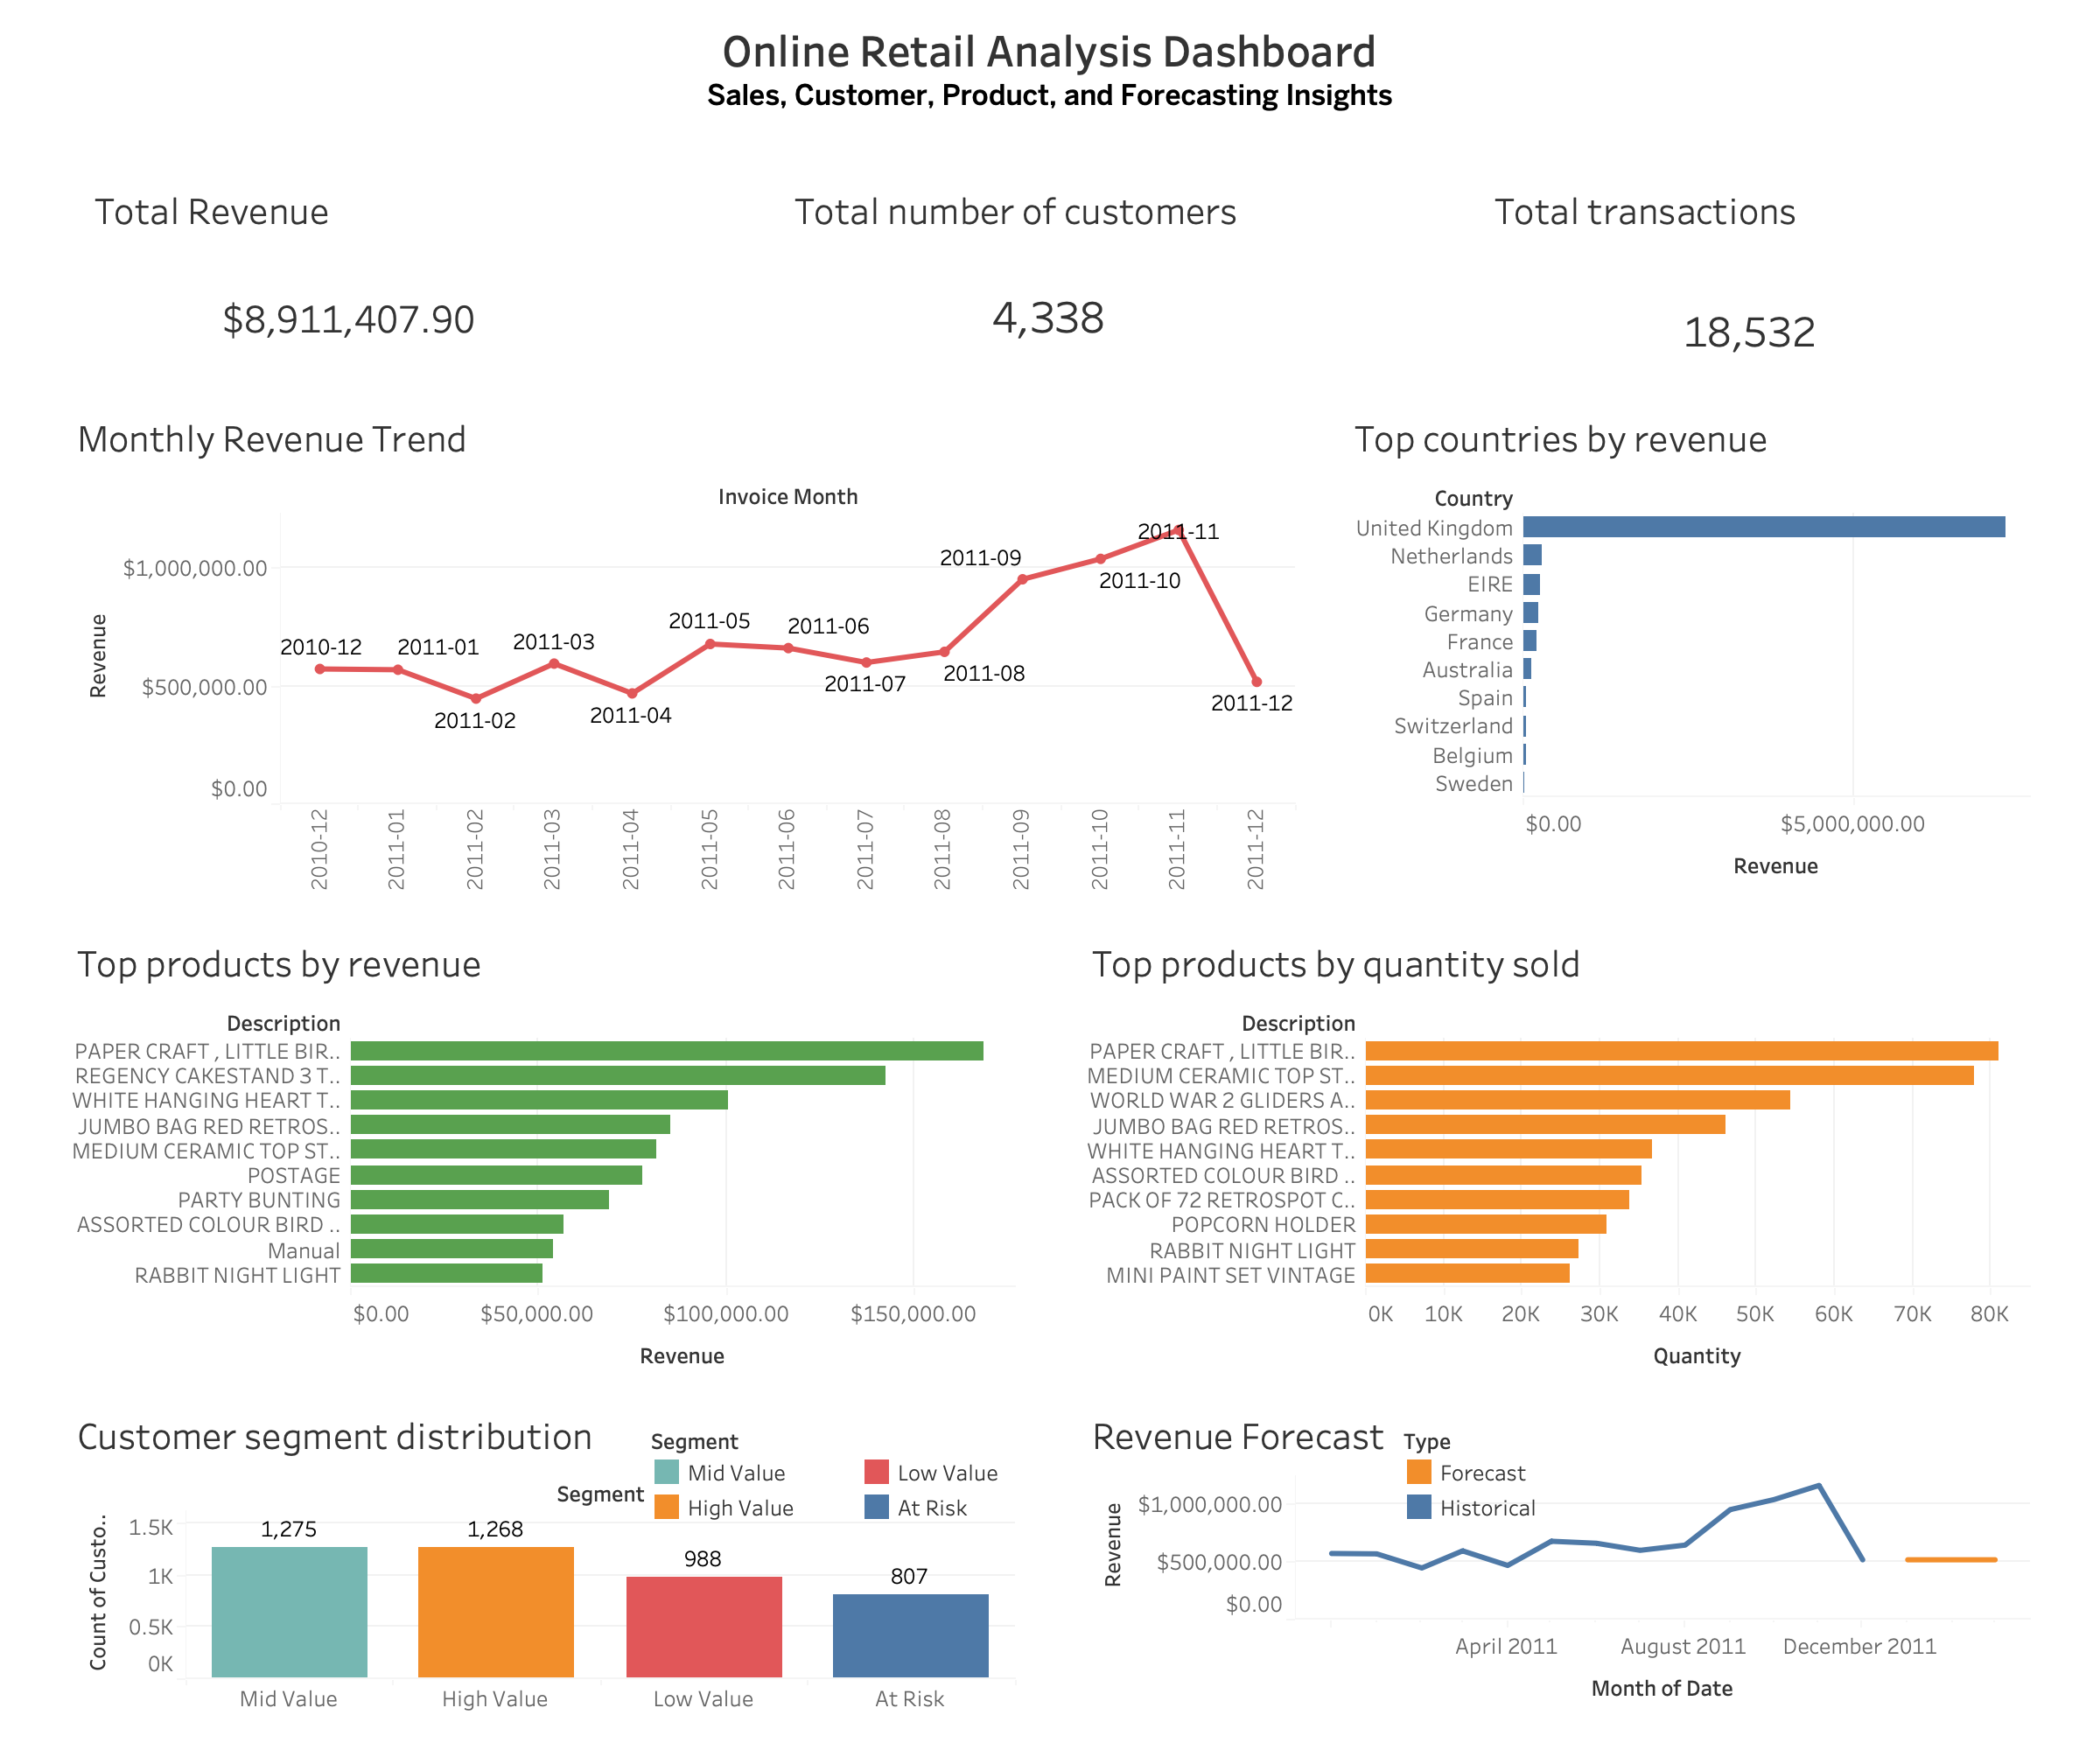

Layout of this report page (visuals, bound fields, positions):
{"tool":"tableau","page":{"name":"Online Retail Analysis Dahsboard","canvas":[1200,1000],"ordinal":0},"visuals":[{"type":"title","box":[8,8,1184,61]},{"type":"worksheet","title":"Total Revenue","mark":"Text","box":[50,100,300,120]},{"type":"worksheet","title":"Total number of customers","mark":"Text","box":[450,100,300,120]},{"type":"worksheet","title":"Total transactions","mark":"Text","box":[850,100,300,136]},{"type":"worksheet","title":"Monthly Revenue Trend","mark":"Line","rows":["Revenue"],"cols":["InvoiceMonth"],"box":[40,230,700,280]},{"type":"worksheet","title":"Top countries by revenue","mark":"Automatic","rows":["Country"],"cols":["Revenue"],"box":[770,230,390,280]},{"type":"worksheet","title":"Top products by revenue","mark":"Automatic","rows":["Description"],"cols":["Revenue"],"box":[40,530,540,260]},{"type":"worksheet","title":"Top products by quantity sold","mark":"Automatic","rows":["Description"],"cols":["Quantity"],"box":[620,530,540,260]},{"type":"worksheet","title":"Customer segment distribution","mark":"Automatic","rows":["CustomerID"],"cols":["Segment"],"box":[40,800,540,180]},{"type":"worksheet","title":"Revenue Forecast","mark":"Line","rows":["Revenue"],"cols":["Date"],"box":[620,800,540,180]},{"type":"legend","title":"Customer segment distribution","param":"[federated.0tezobi1w3qgyx19y5mj21rlxclv].[none:Segment:nk]","box":[371,813,263,65]},{"type":"legend","title":"Revenue Forecast","param":"[federated.0ekq0ro08h94ga1e2if0a139ck9y].[none:Type:nk]","box":[801,813,140,58]}]}

Visuals, with their boxes in screenshot pixels (x1, y1, x2, y2), scaled from the page's 1200x1000 canvas onto the 2100x1750 screenshot:
title: locate(14, 14, 2086, 121)
"Total Revenue" worksheet (Text marks): locate(87, 175, 612, 385)
"Total number of customers" worksheet (Text marks): locate(787, 175, 1312, 385)
"Total transactions" worksheet (Text marks): locate(1487, 175, 2012, 413)
"Monthly Revenue Trend" worksheet (Line marks): locate(70, 402, 1295, 892)
"Top countries by revenue" worksheet: locate(1347, 402, 2030, 892)
"Top products by revenue" worksheet: locate(70, 927, 1015, 1382)
"Top products by quantity sold" worksheet: locate(1085, 927, 2030, 1382)
"Customer segment distribution" worksheet: locate(70, 1400, 1015, 1715)
"Revenue Forecast" worksheet (Line marks): locate(1085, 1400, 2030, 1715)
"Customer segment distribution" legend: locate(649, 1423, 1109, 1536)
"Revenue Forecast" legend: locate(1402, 1423, 1647, 1524)
